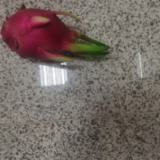pitaya: (2, 8, 107, 63)
